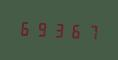nine: (34, 18, 49, 39)
seven: (82, 21, 97, 41)
six: (18, 17, 33, 38), (66, 20, 81, 41)
three: (50, 19, 65, 40)
